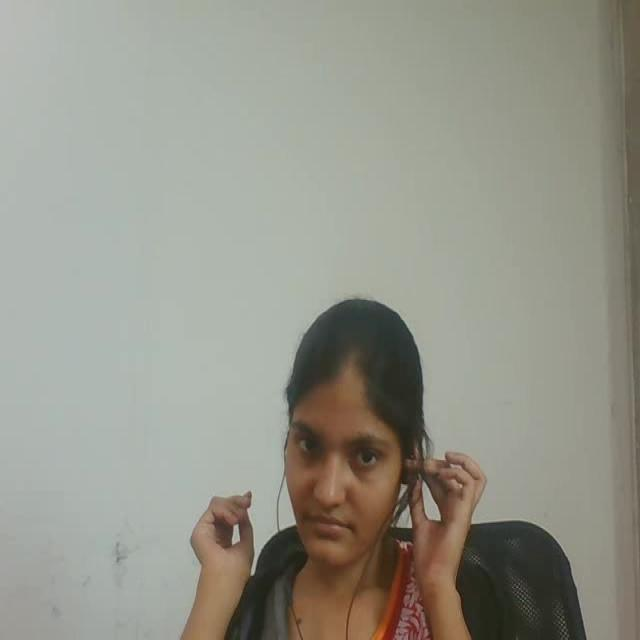Engaged: (261, 252, 433, 593)
